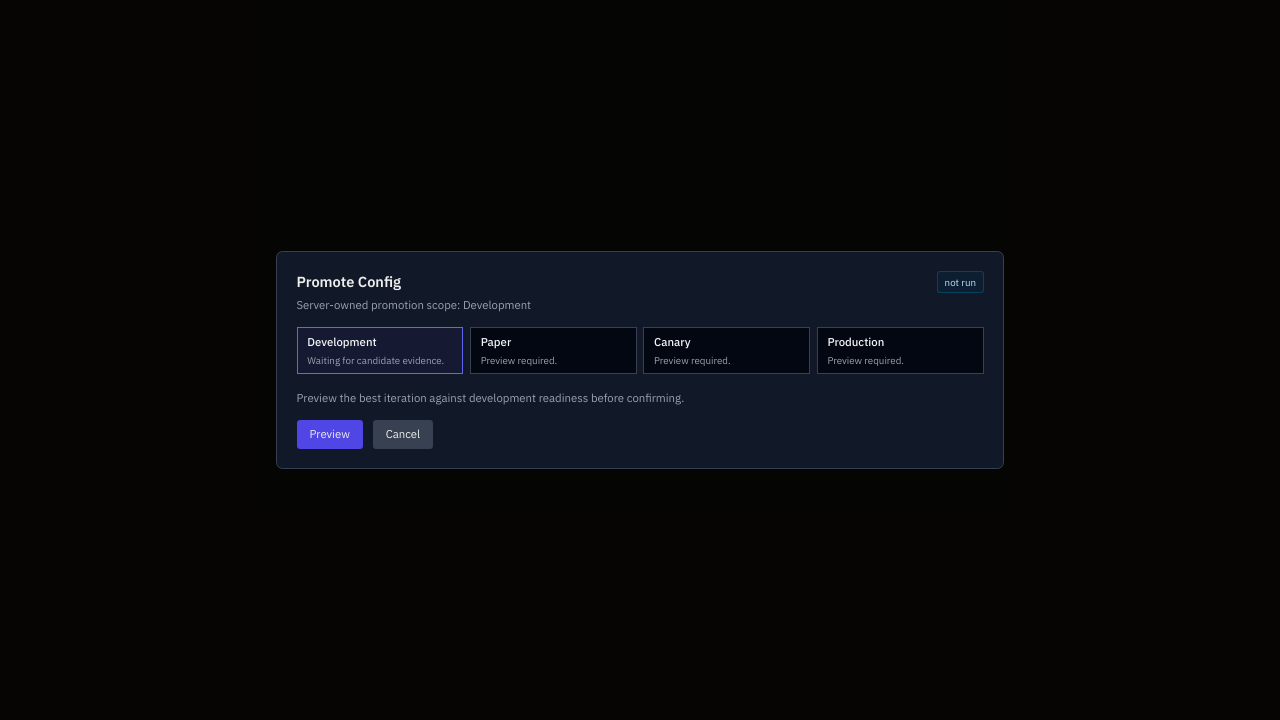
Test: PromotionModal target_kind branching (P3-026) › shows the artifact store target label when target_kind = artifact_store
Step 1. Click the button "Preview" → (330, 434), box [296, 420, 363, 449]
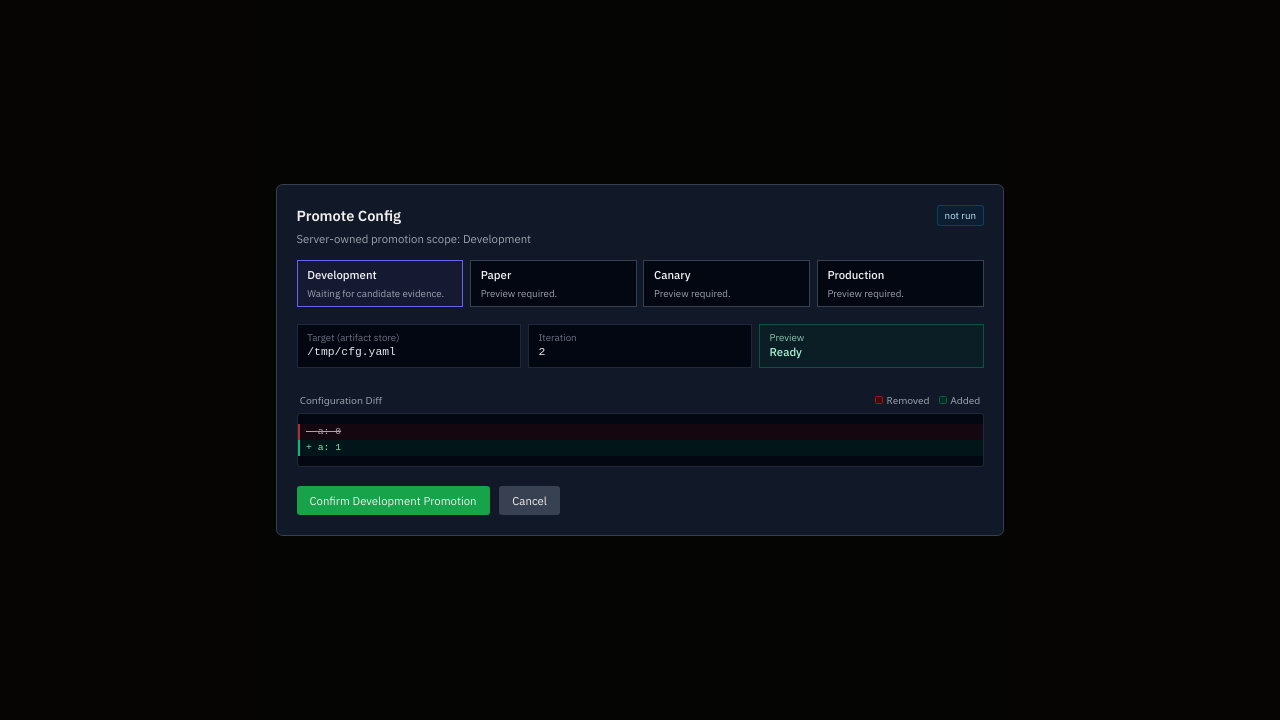
Result: the text "Target (artifact store)" is shown at [307, 331, 400, 344]
